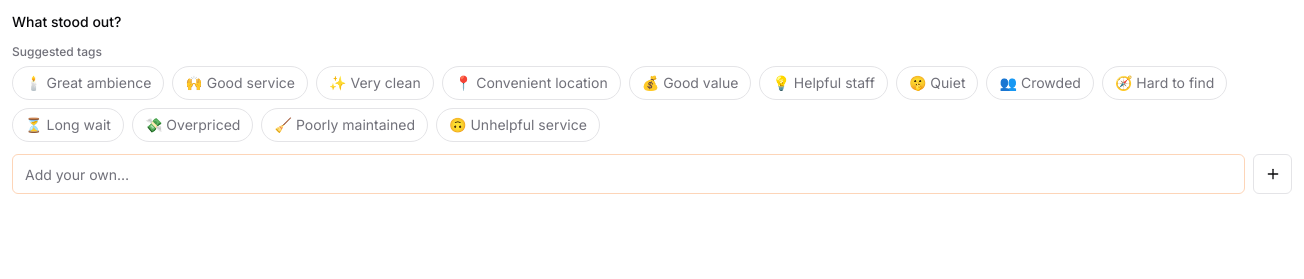
Scenario: UnifiedTagSelector (curated adapter) › labels the suggestion pool so it reads separately from the selected list
Expected: the text "Suggested tags" is shown, [12,44,102,59]
Expected: the text "Selected tags" is not shown
Step 1. Click the button "🕯️Great ambience" → [88, 83], box [12,66,164,100]
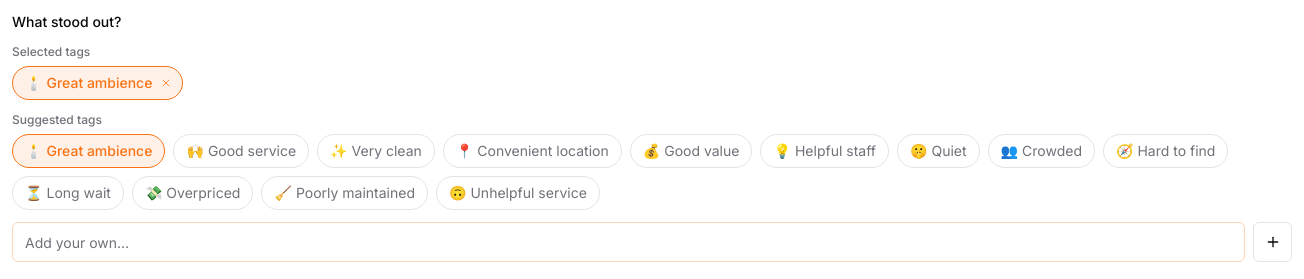
Expected: the text "Suggested tags" is shown, [12,112,102,127]
Expected: the text "Selected tags" is shown, [12,44,90,59]
